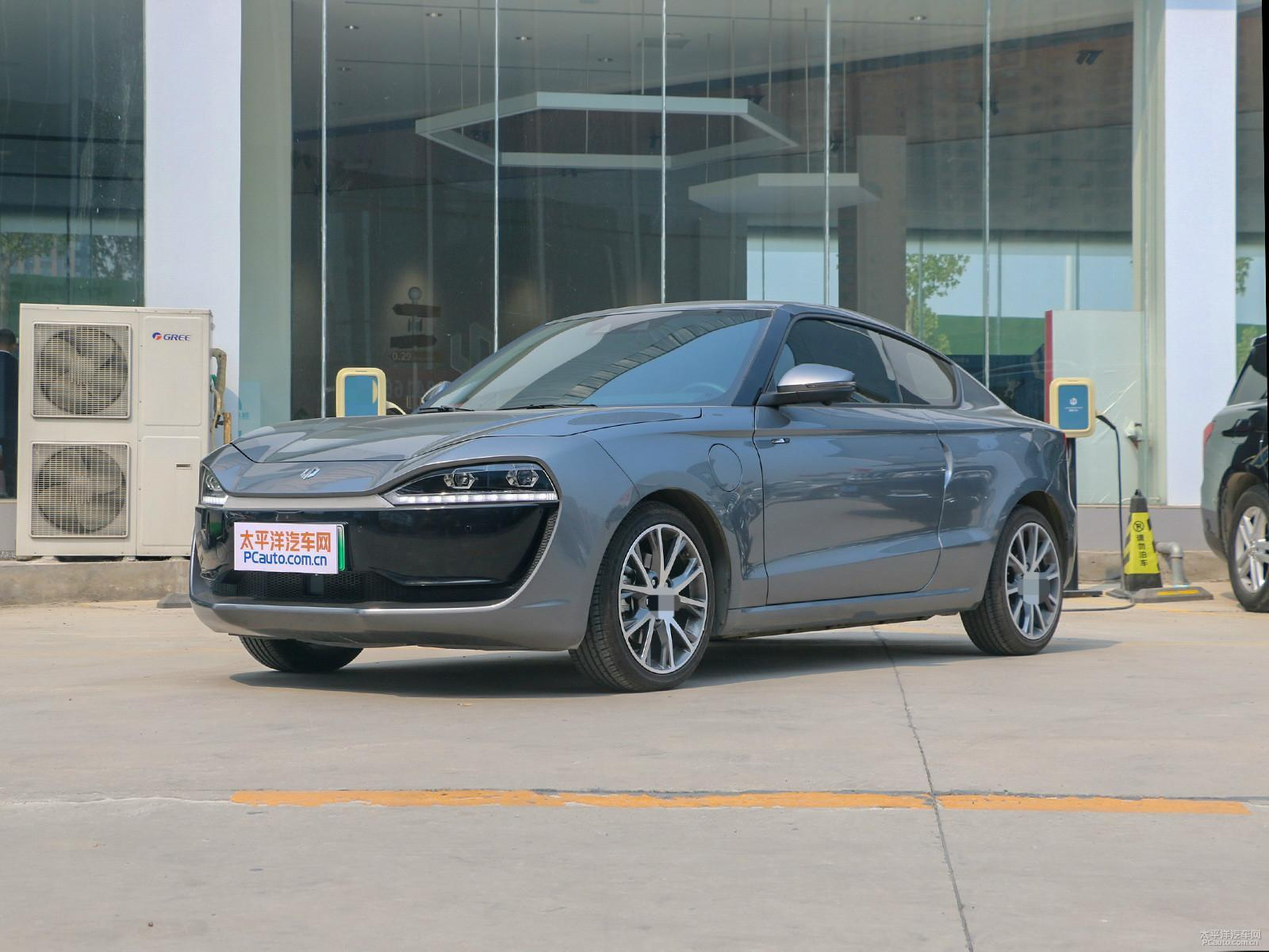LEAPMOTOR: (300, 466, 323, 478)
